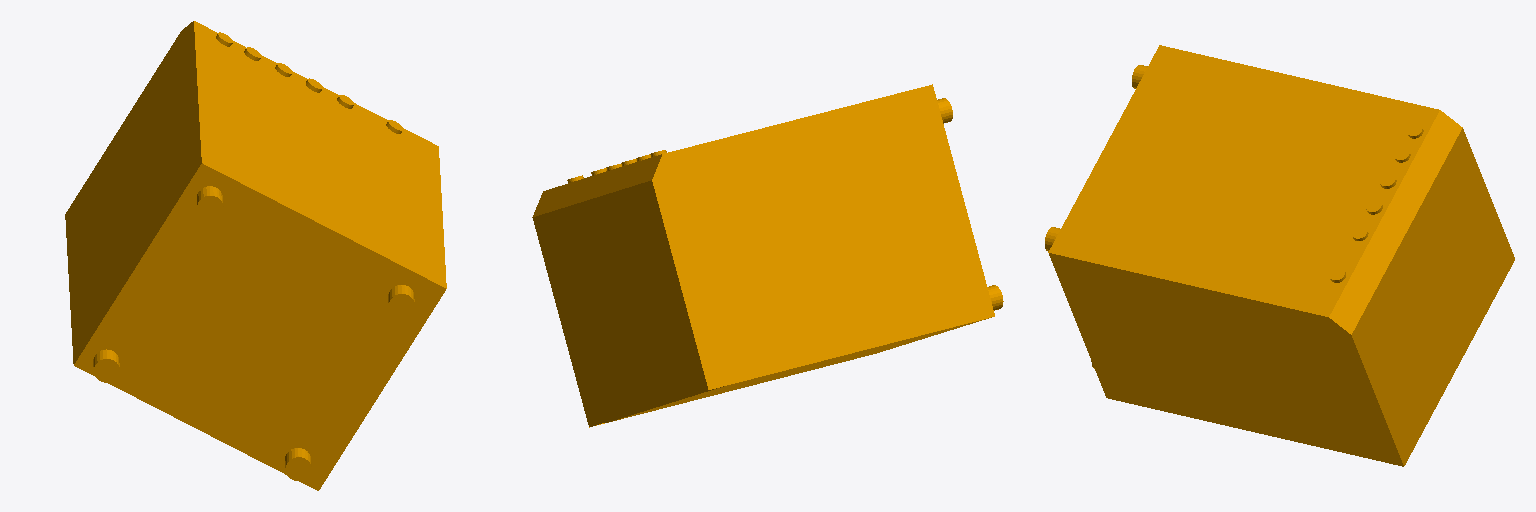
The robot description file, URDF, robot "none":
<robot name="none">
       <link name="none">
           <visual>
               <origin rpy="0 0 -0.5" xyz="0 0 0" />
               <geometry>
                   <mesh filename="3d-model.obj"  scale="0.001 0.001 0.001"/>
               </geometry>
           </visual>
          <collision>
<origin rpy="1.57 0 0" xyz="0 0 0.5" />
              <geometry>
                  <box size="0.712414 1.000000 0.731447" />
              </geometry>
          </collision>

          <inertial>
            <mass value=".0" />
            <inertia ixx="0.05" ixy="0.0" ixz="0.0" iyy="0.05" iyz="0.0" izz="0.05"/>
          </inertial>
      </link>
  </robot>

--- Facts derived from the render (not from the file) ---
3 views of the same robot in one strip: view 1: azimuth 30°, elevation 25°; view 2: azimuth 150°, elevation 25°; view 3: azimuth 270°, elevation 25° (orthographic).
Robot: none — 1 links, 0 joints (none); root link none; default pose: every joint at zero.
Links seen in each view (by area): view 1: none; view 2: none; view 3: none.
Boxes of the visible links, left/top/right/bottom form: none: left=65, top=21, right=446, bottom=490; none: left=532, top=84, right=1003, bottom=427; none: left=1045, top=45, right=1514, bottom=466.
Bounding box of the posed robot: 1.11 × 1.12 × 0.8223 m (x, y, z).
Meshes: 1 distinct files referenced, 1 mesh visuals loaded (1 OBJ).